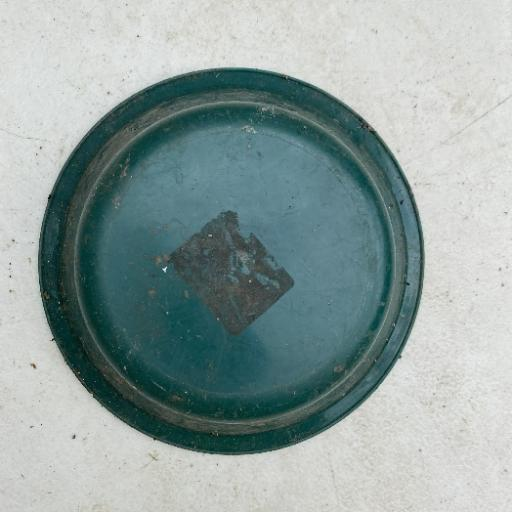Plastic: (36, 66, 426, 456), (163, 207, 296, 337)
